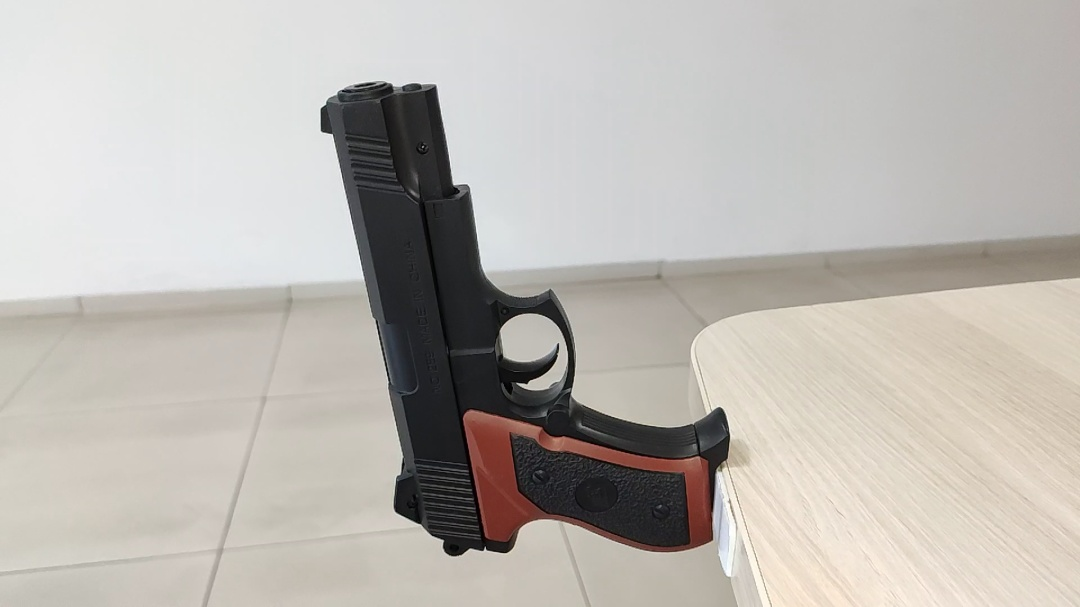gun: (592, 264, 642, 282)
